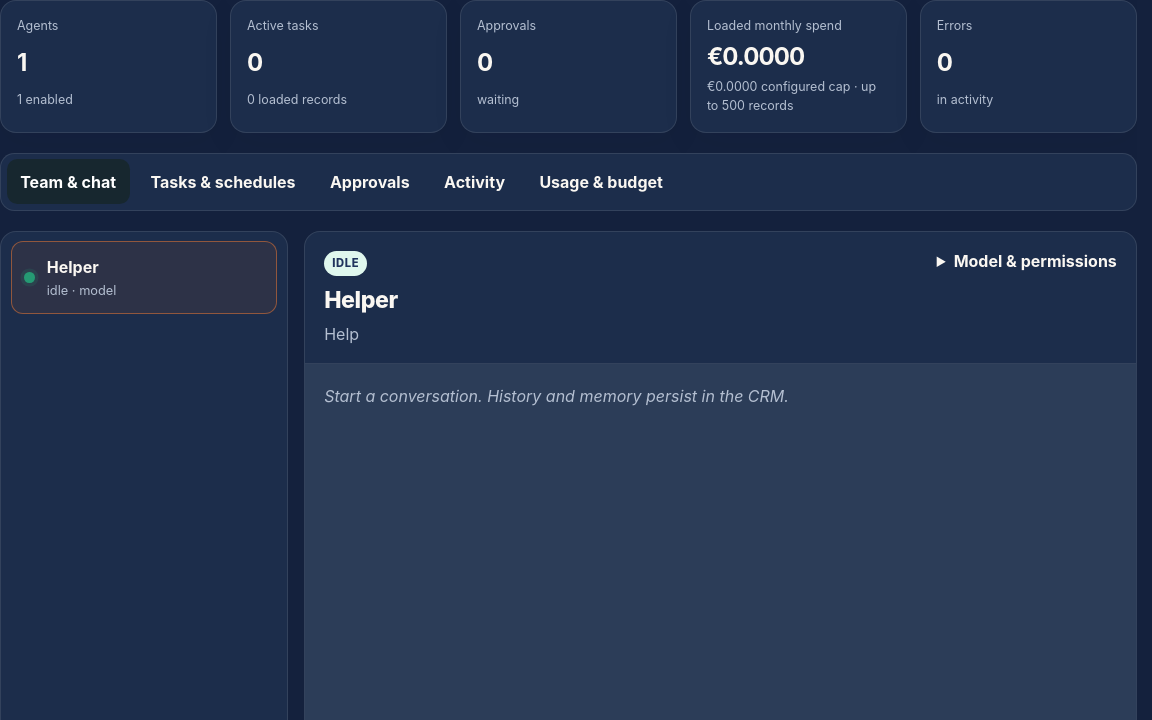
Test case: a configured zero budget stays zero rather than becoming EUR4
Click the button "Usage & budget" at (601, 182), box [526,159,677,204]
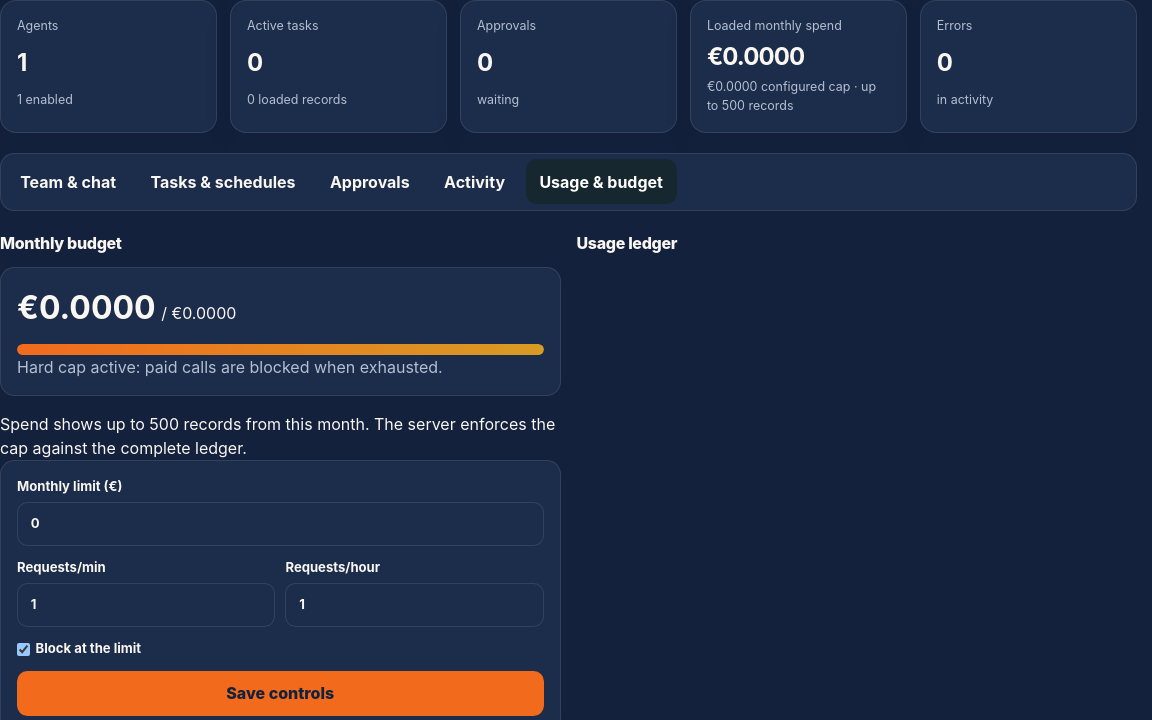
Expected: the number field labelled "Monthly limit (€)" holds "0", [17,502,544,546]
